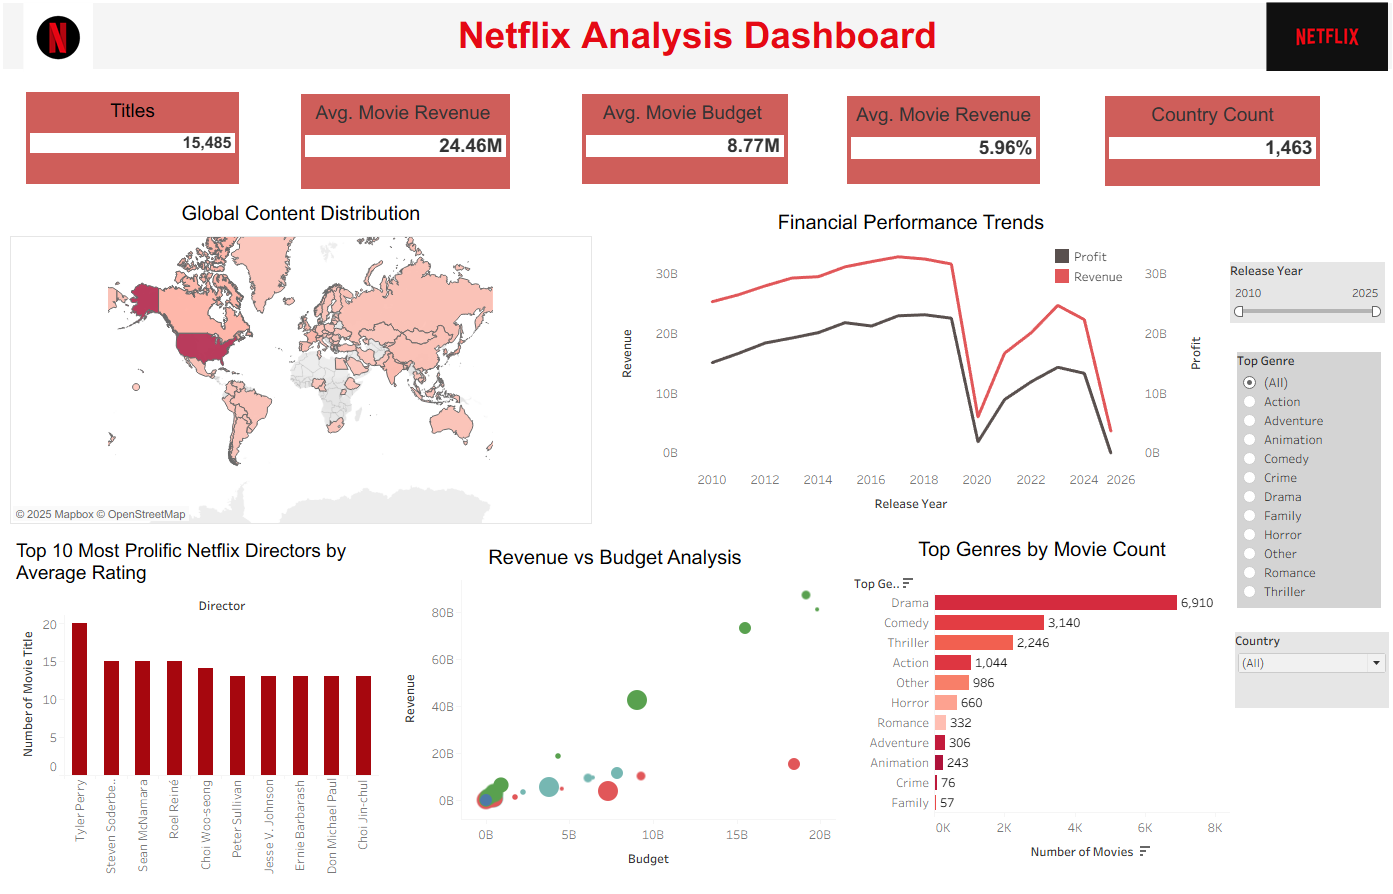

The dashboard page shown, as its layout file describes it:
{"tool":"tableau","page":{"name":"Netflix Dashboard","canvas":[1400,896],"ordinal":0},"visuals":[{"type":"image","param":"D:/Netflix_data/images.png","box":[7,4,110,70]},{"type":"image","param":"D:/Netflix_data/BrandAssets_Logos_01-Wordmark.jpg","box":[1270,4,123,69]},{"type":"text","box":[7,5,1389,66]},{"type":"worksheet","title":"Total Titles","mark":"Automatic","box":[30,94,213,65]},{"type":"worksheet","title":"Avg. Movie Revenue ","mark":"Automatic","box":[305,96,209,67]},{"type":"worksheet","title":"Avg. Movie Budget ","mark":"Automatic","box":[586,96,206,67]},{"type":"worksheet","title":"AVG. Movie Rating","mark":"Automatic","box":[851,98,193,67]},{"type":"worksheet","title":"Country Count","mark":"Automatic","box":[1109,98,215,67]},{"type":"worksheet","title":"lobal Content Distribution","mark":"Multipolygon","box":[14,200,582,326]},{"type":"worksheet","title":"Financial Performance Trends","mark":"Automatic","rows":["revenue","Calculation_941533827986653186"],"cols":["release_year"],"box":[615,209,600,312]},{"type":"legend","title":"Financial Performance Trends","param":"[federated.0kqfeak0g81f5t18yjlmp0octae7].[:Measure Names]","box":[1056,248,91,52]},{"type":"filter","title":"Top Genres by Movie Count","param":"[federated.0kqfeak0g81f5t18yjlmp0octae7].[none:release_year:qk]","box":[1234,264,155,61]},{"type":"filter","title":"Top Genres by Movie Count","param":"[federated.0kqfeak0g81f5t18yjlmp0octae7].[none:Calculation_941533827986792451:nk","box":[1241,354,144,256]},{"type":"worksheet","title":"Top Genres by Movie Count","mark":"Bar","rows":["Calculation_941533827986792451"],"cols":["show_id"],"box":[858,536,376,350]},{"type":"worksheet","title":"Top 10 Directors with Average Rating","mark":"Bar","rows":["title"],"cols":["director"],"box":[16,538,367,339]},{"type":"worksheet","title":"Revenue vs Budget Analysis","mark":"Circle","rows":["revenue"],"cols":["budget"],"box":[398,544,442,332]},{"type":"filter","title":"lobal Content Distribution","param":"[federated.0kqfeak0g81f5t18yjlmp0octae7].[none:country:nk]","box":[1239,634,154,76]}]}

Visuals, with their boxes in screenshot pixels (x1, y1, x2, y2), scaled from the page's 1400x896 canvas onto the 1393x894 screenshot:
image: BBox(7, 4, 116, 74)
image: BBox(1264, 4, 1386, 73)
text: BBox(7, 5, 1389, 71)
"Total Titles" worksheet: BBox(30, 94, 242, 159)
"Avg. Movie Revenue " worksheet: BBox(303, 96, 511, 163)
"Avg. Movie Budget " worksheet: BBox(583, 96, 788, 163)
"AVG. Movie Rating" worksheet: BBox(847, 98, 1039, 165)
"Country Count" worksheet: BBox(1103, 98, 1317, 165)
"lobal Content Distribution" worksheet (Multipolygon marks): BBox(14, 200, 593, 525)
"Financial Performance Trends" worksheet: BBox(612, 209, 1209, 520)
"Financial Performance Trends" legend: BBox(1051, 247, 1141, 299)
"Top Genres by Movie Count" filter: BBox(1228, 263, 1382, 324)
"Top Genres by Movie Count" filter: BBox(1235, 353, 1378, 609)
"Top Genres by Movie Count" worksheet (Bar marks): BBox(854, 535, 1228, 884)
"Top 10 Directors with Average Rating" worksheet (Bar marks): BBox(16, 537, 381, 875)
"Revenue vs Budget Analysis" worksheet (Circle marks): BBox(396, 543, 836, 874)
"lobal Content Distribution" filter: BBox(1233, 633, 1386, 708)
